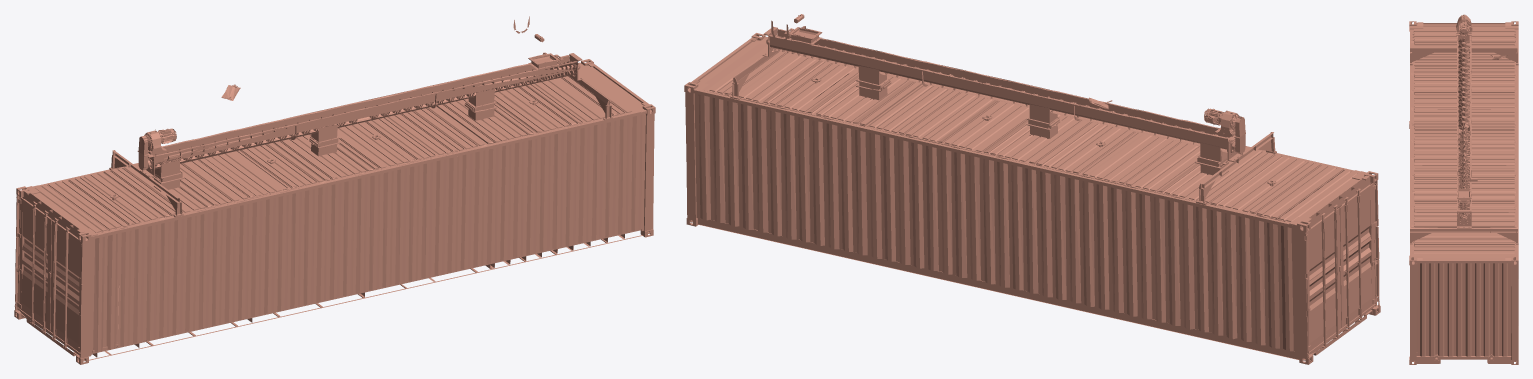
The model's file is reactor_candidate_4.glb.
The picture shows the model from 3 angles, left to right: view 1: azimuth 30°, elevation 25°; view 2: azimuth 150°, elevation 25°; view 3: azimuth 270°, elevation 25°; orthographic projection. The views are drawn at different scales.
Parts seen in each view (by area): view 1: world; view 2: world; view 3: world.
Boxes of the visible parts, x1,y1,x2,y2 form: world: (14, 16, 655, 364); world: (684, 14, 1380, 364); world: (1409, 14, 1518, 364).
Bounding box in the file's own units: 12.28 × 4.01 × 2.44.
